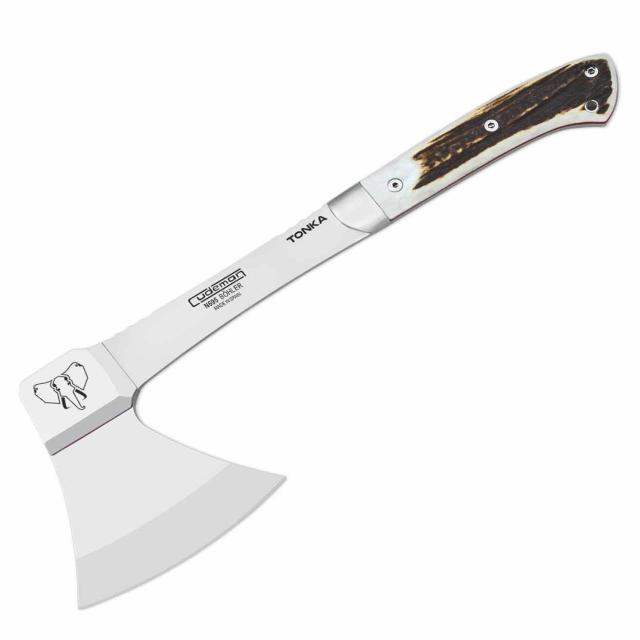Kapak: (56, 120, 485, 497)
